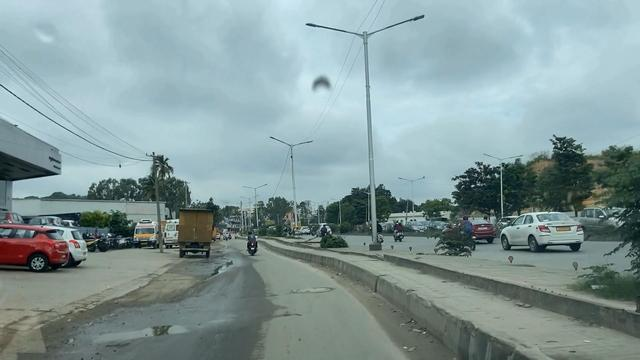RoadDamages: (168, 268, 219, 302), (290, 280, 331, 301)
